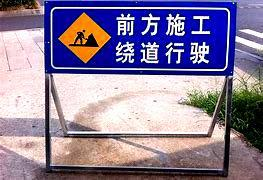sign: (46, 2, 232, 73)
